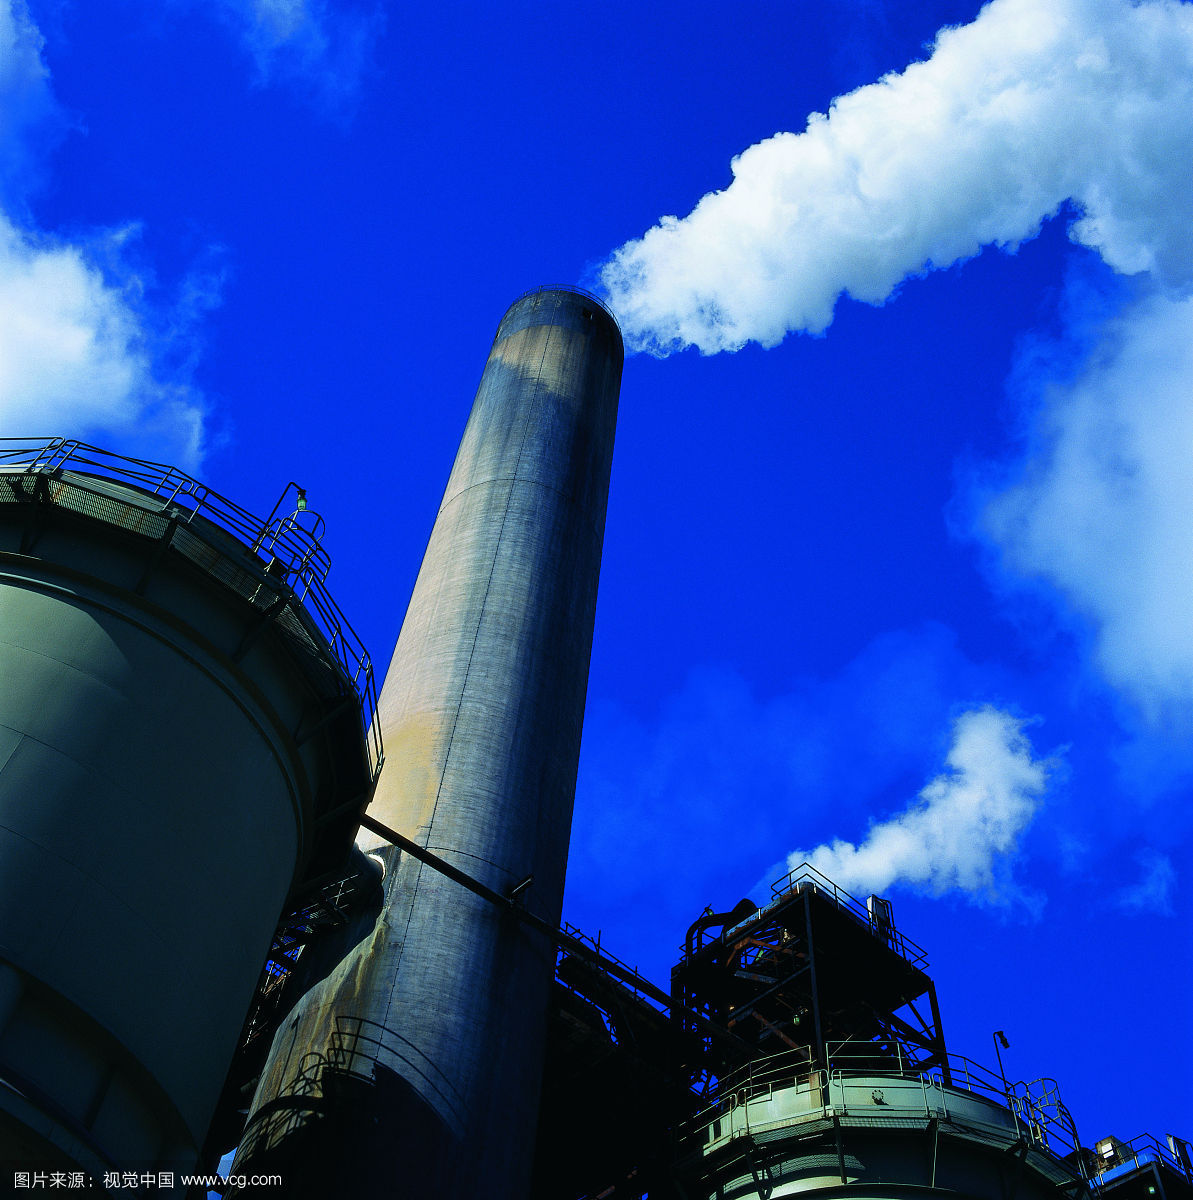dust: (479, 35, 1066, 346)
